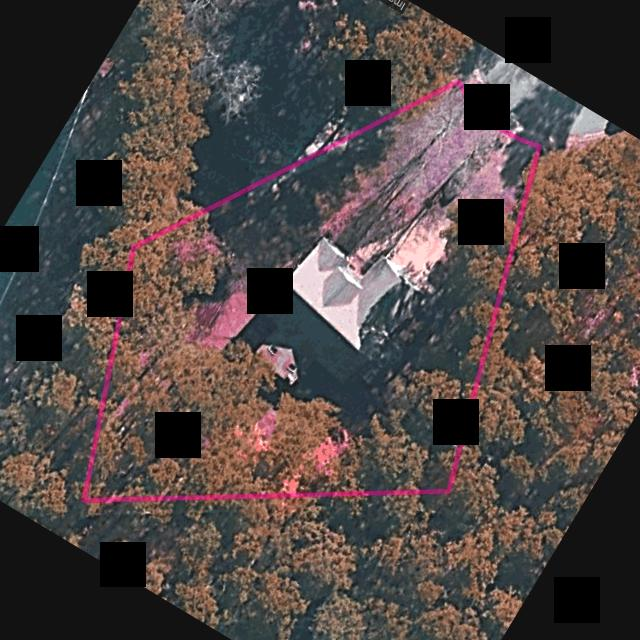Driveway: (324, 89, 498, 248)
Extra Driveway: (464, 77, 509, 122)
House: (265, 236, 429, 382)
